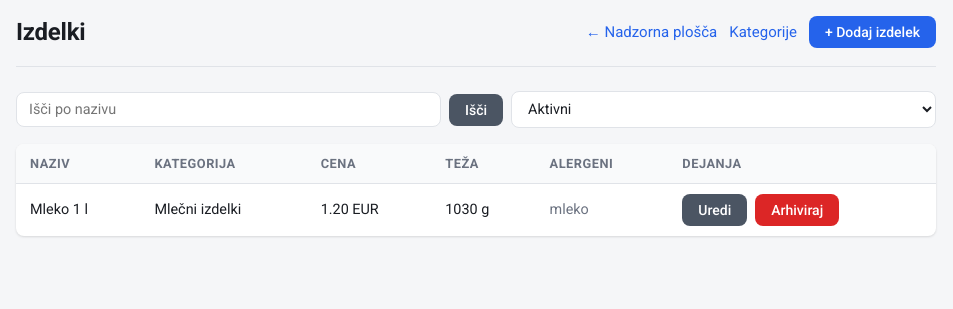
ProductsPage › shows PRODUCT_HAS_OPEN_RECONCILIATION in Slovenian
This screenshot has width=953, height=309.
Click the button "Arhiviraj". click: (797, 210)
box: [755,194,839,226]
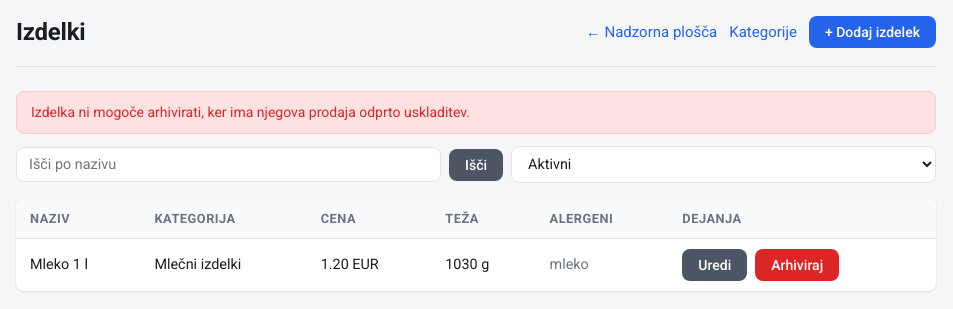
Check: the text "odprto uskladitev" is shown, box [31,104,470,120]
